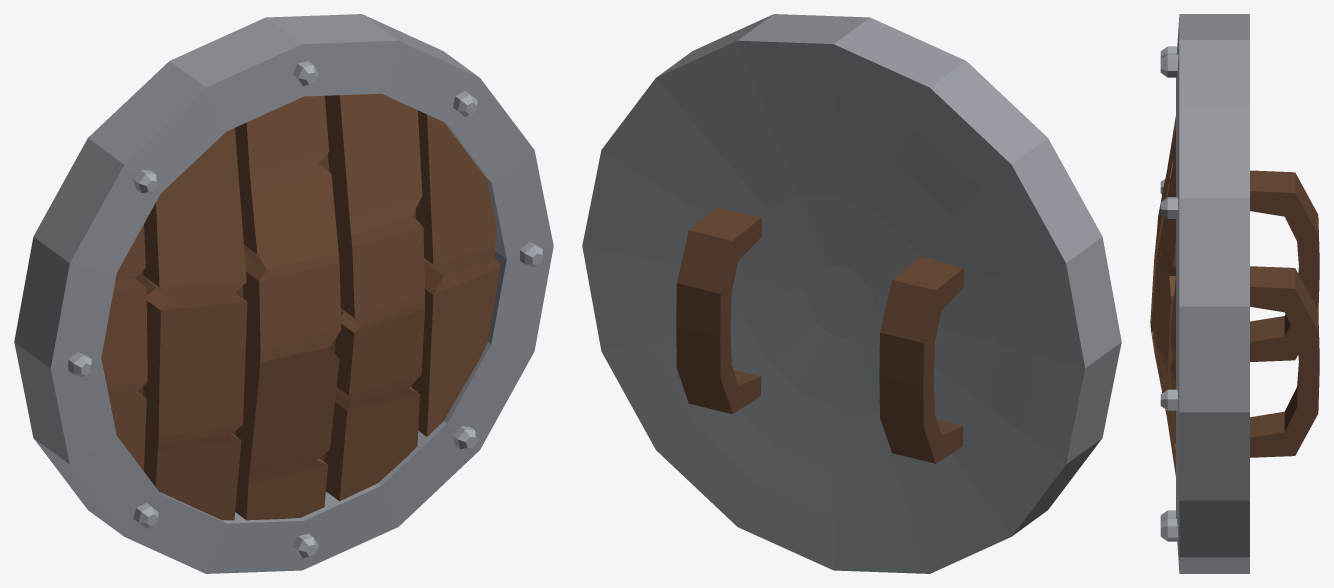
File: Shield_Round.gltf
3 views of the same model, side by side, from view 1: azimuth 30°, elevation 25°; view 2: azimuth 150°, elevation 25°; view 3: azimuth 270°, elevation 25° (orthographic). The views are drawn at different scales.
Visible parts, largest first — view 1: Shield_Round; view 2: Shield_Round; view 3: Shield_Round.
Part boxes in pixels (x1,y1,x2,y2): Shield_Round: [14, 14, 553, 573]; Shield_Round: [582, 14, 1121, 573]; Shield_Round: [1150, 14, 1319, 573].
Size of the model in its own units: 2 by 2 by 0.6037.
